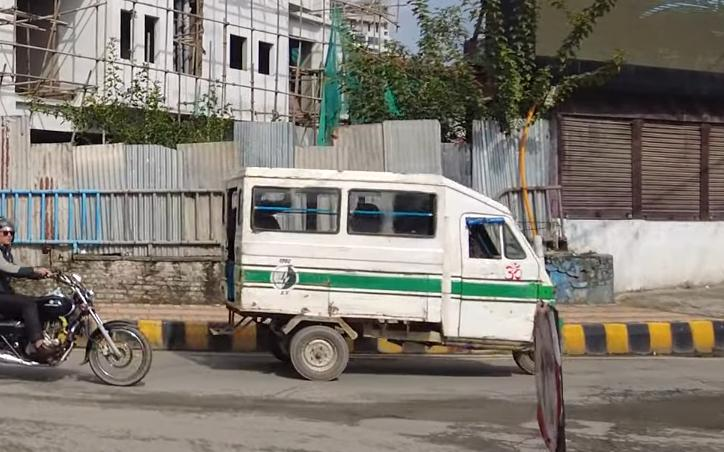bike: (0, 245, 147, 395)
tempo: (217, 161, 559, 385)
